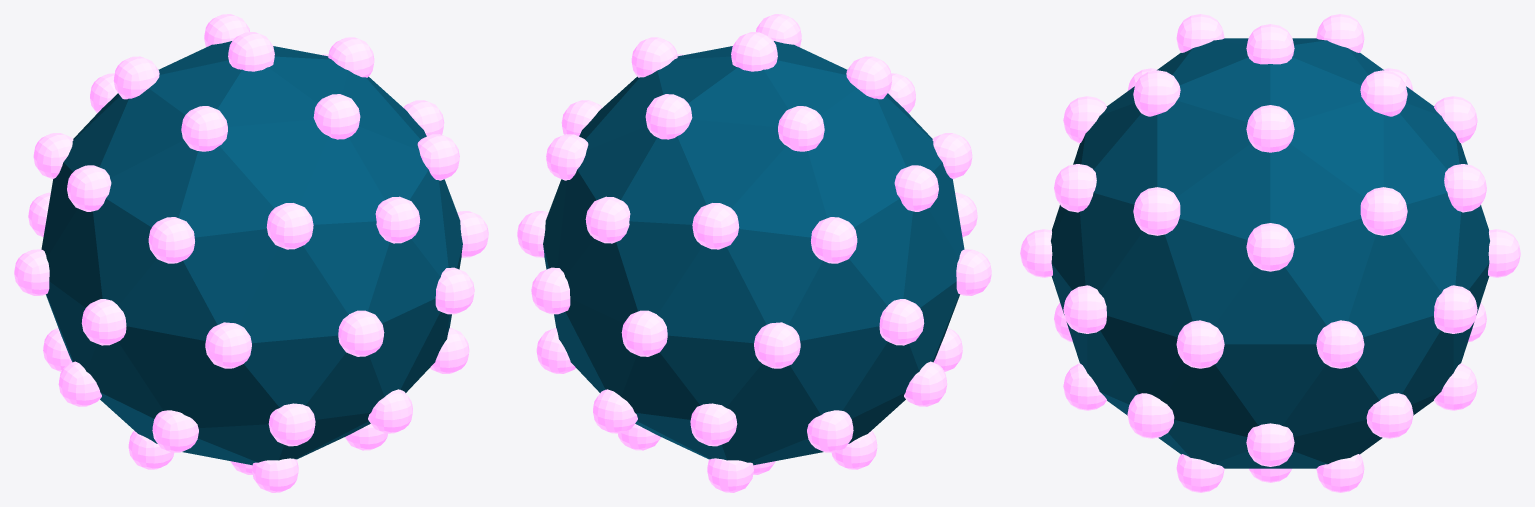
The model's file is CubeBlastGlobe.fbx.
3 renders of one model, left to right at view 1: azimuth 30°, elevation 25°; view 2: azimuth 150°, elevation 25°; view 3: azimuth 270°, elevation 25°, orthographic. The views are drawn at different scales.
Parts seen in each view (by area): view 1: Icosphere; view 2: Icosphere; view 3: Icosphere.
Part boxes in pixels (x1=…): Icosphere: x1=14, y1=14, x2=488, y2=492; Icosphere: x1=517, y1=14, x2=991, y2=492; Icosphere: x1=1020, y1=14, x2=1520, y2=492.
Size of the model in its own units: 212 by 221 by 221.
